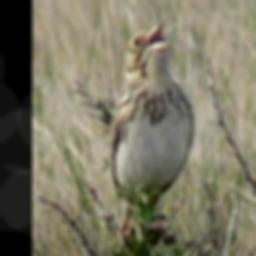Sparrow: (104, 18, 197, 247)
